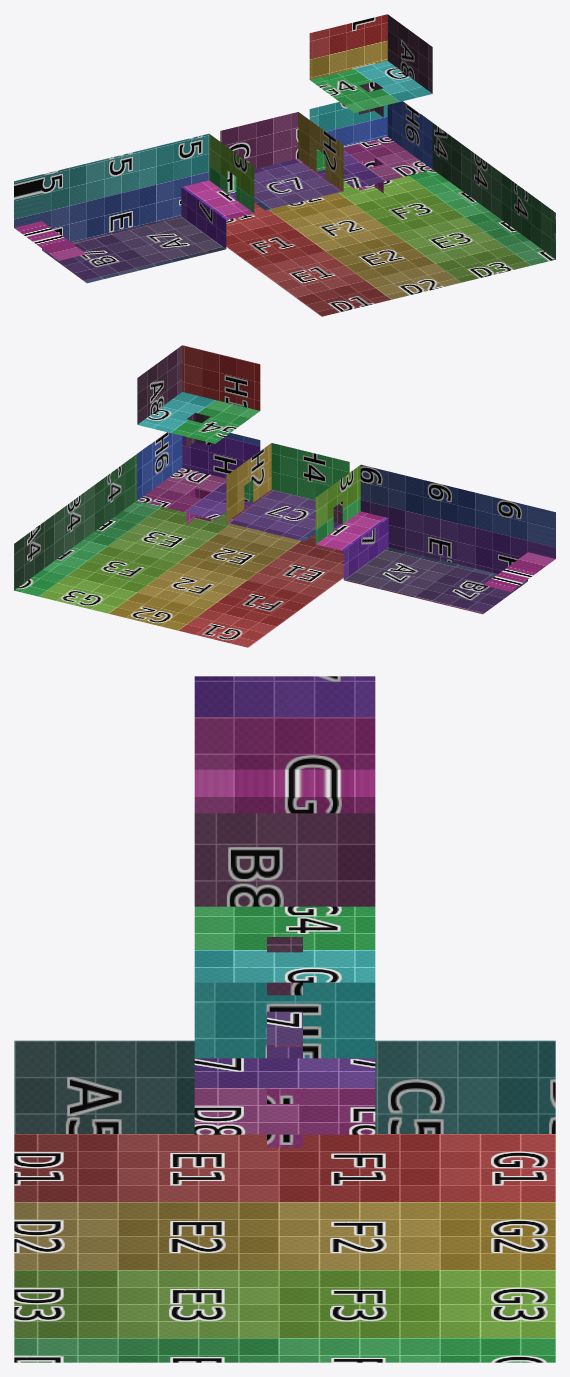
The model's file is Body Demo.glb.
The picture shows the model from 3 angles, top to bottom: view 1: azimuth 30°, elevation 25°; view 2: azimuth 150°, elevation 25°; view 3: azimuth 270°, elevation 25°; orthographic projection. The views are drawn at different scales.
Visible parts, largest first — view 1: Visible Mesh; view 2: Visible Mesh; view 3: Visible Mesh.
Part boxes in pixels (left/top/right/bottom): Visible Mesh: left=14, top=14, right=555, bottom=316; Visible Mesh: left=14, top=345, right=555, bottom=647; Visible Mesh: left=14, top=676, right=555, bottom=1362.
Size of what is drawn, in the model's own units: 81 by 34 by 42.
1 material, 1 textured.
